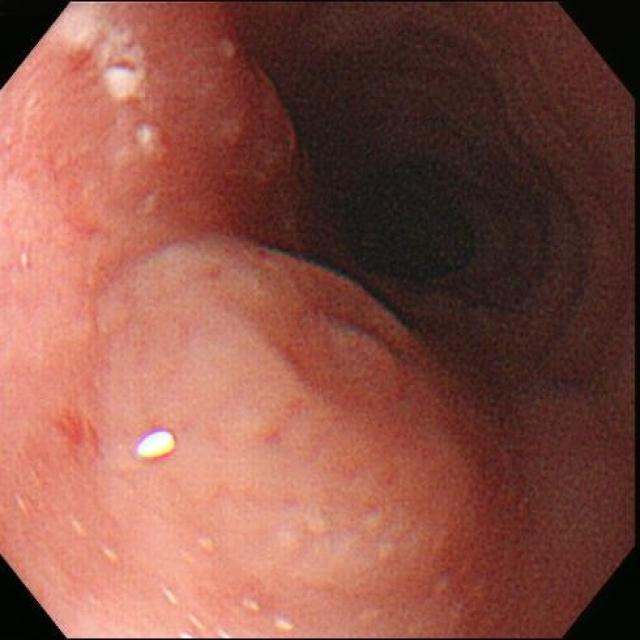A: (98, 228, 486, 586), (204, 29, 311, 200)
E: (320, 62, 552, 287)
J: (65, 10, 151, 109)
U: (134, 428, 180, 461)
